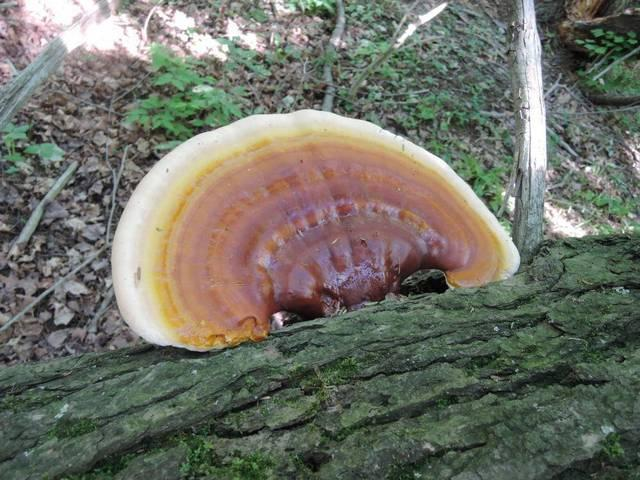Non-edible Mushroom: (108, 107, 521, 353)
